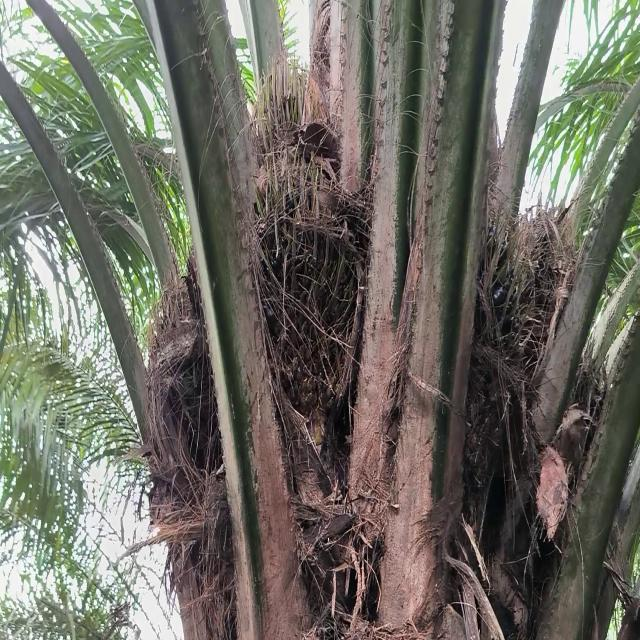palm-oil: (235, 65, 363, 445), (432, 203, 533, 495), (139, 257, 225, 511)
